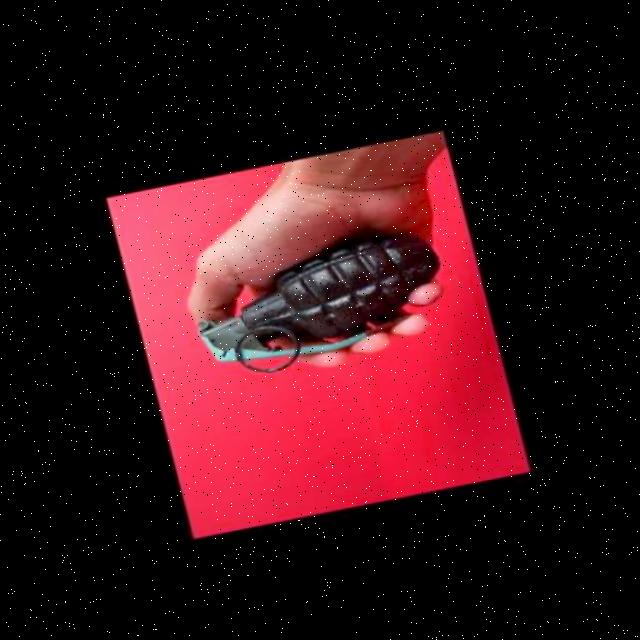grenade: (163, 206, 475, 389)
